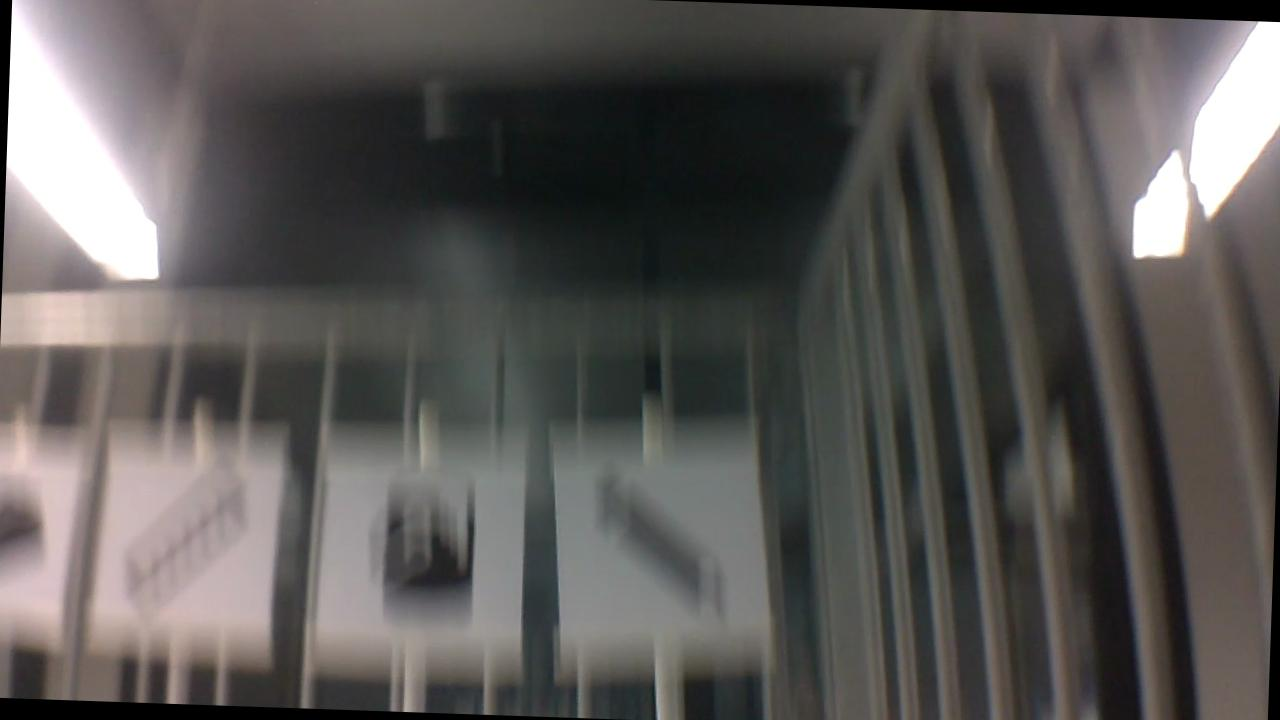bucket: (370, 467, 476, 616)
pencil: (585, 450, 738, 615)
ruler: (103, 457, 257, 607)
